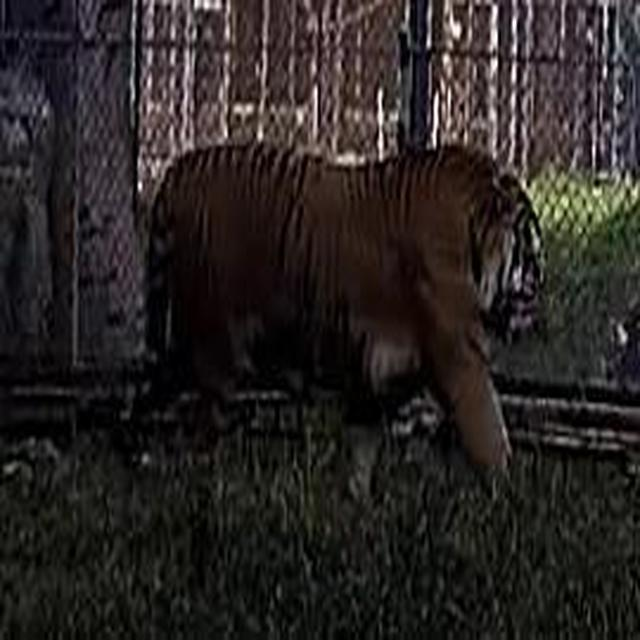tiger: (133, 137, 549, 500)
